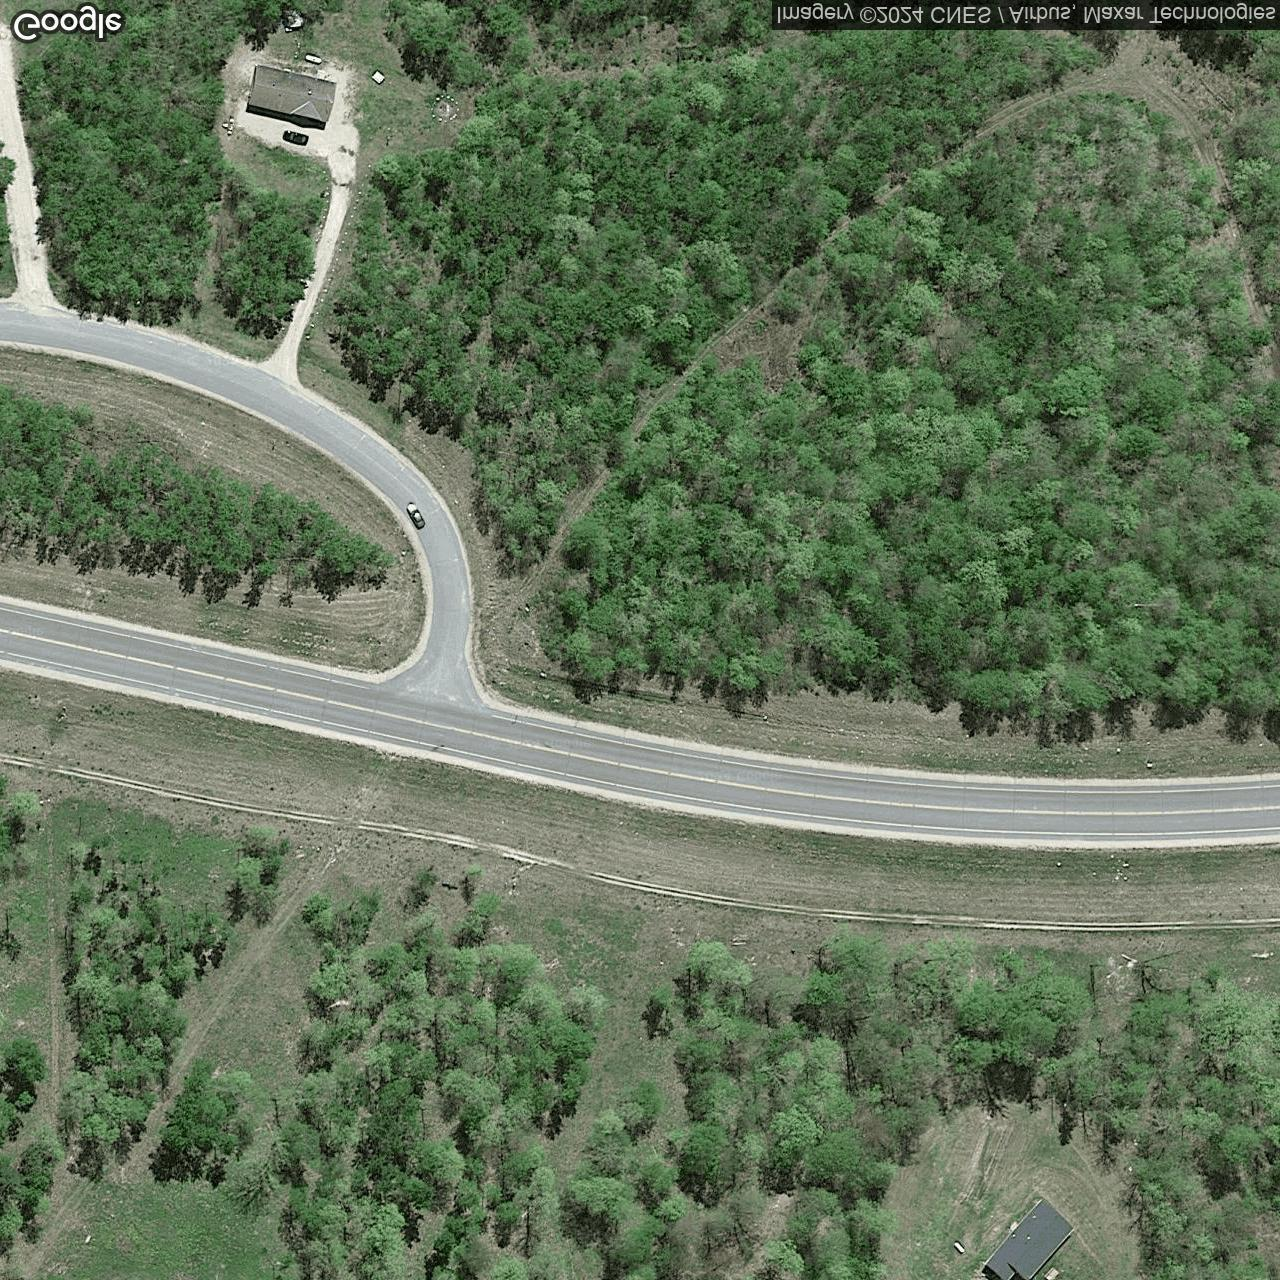House: (983, 1198, 1077, 1280), (247, 62, 339, 124)
Propane: (304, 52, 324, 68), (952, 1239, 968, 1257)
